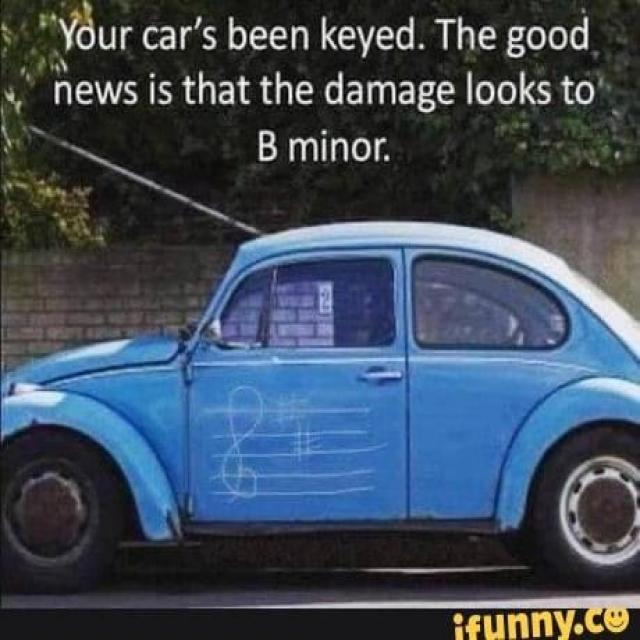damaged: (194, 377, 386, 508)
